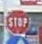stop: (5, 9, 30, 34)
